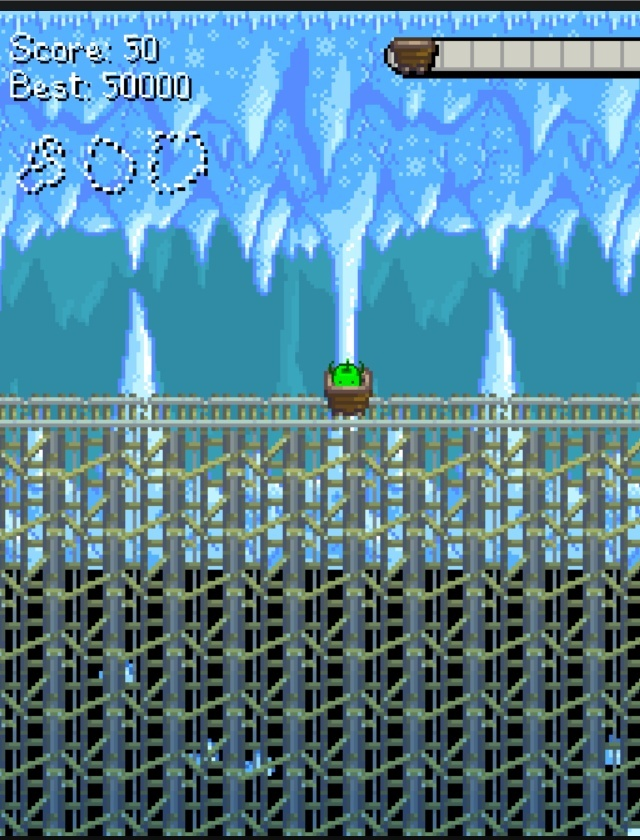minecart: (324, 359, 370, 415)
score: (121, 30, 160, 61)
tracks: (0, 391, 319, 434)
